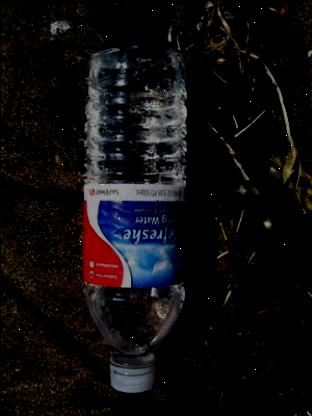Plastic Bottle: (82, 45, 189, 393)
